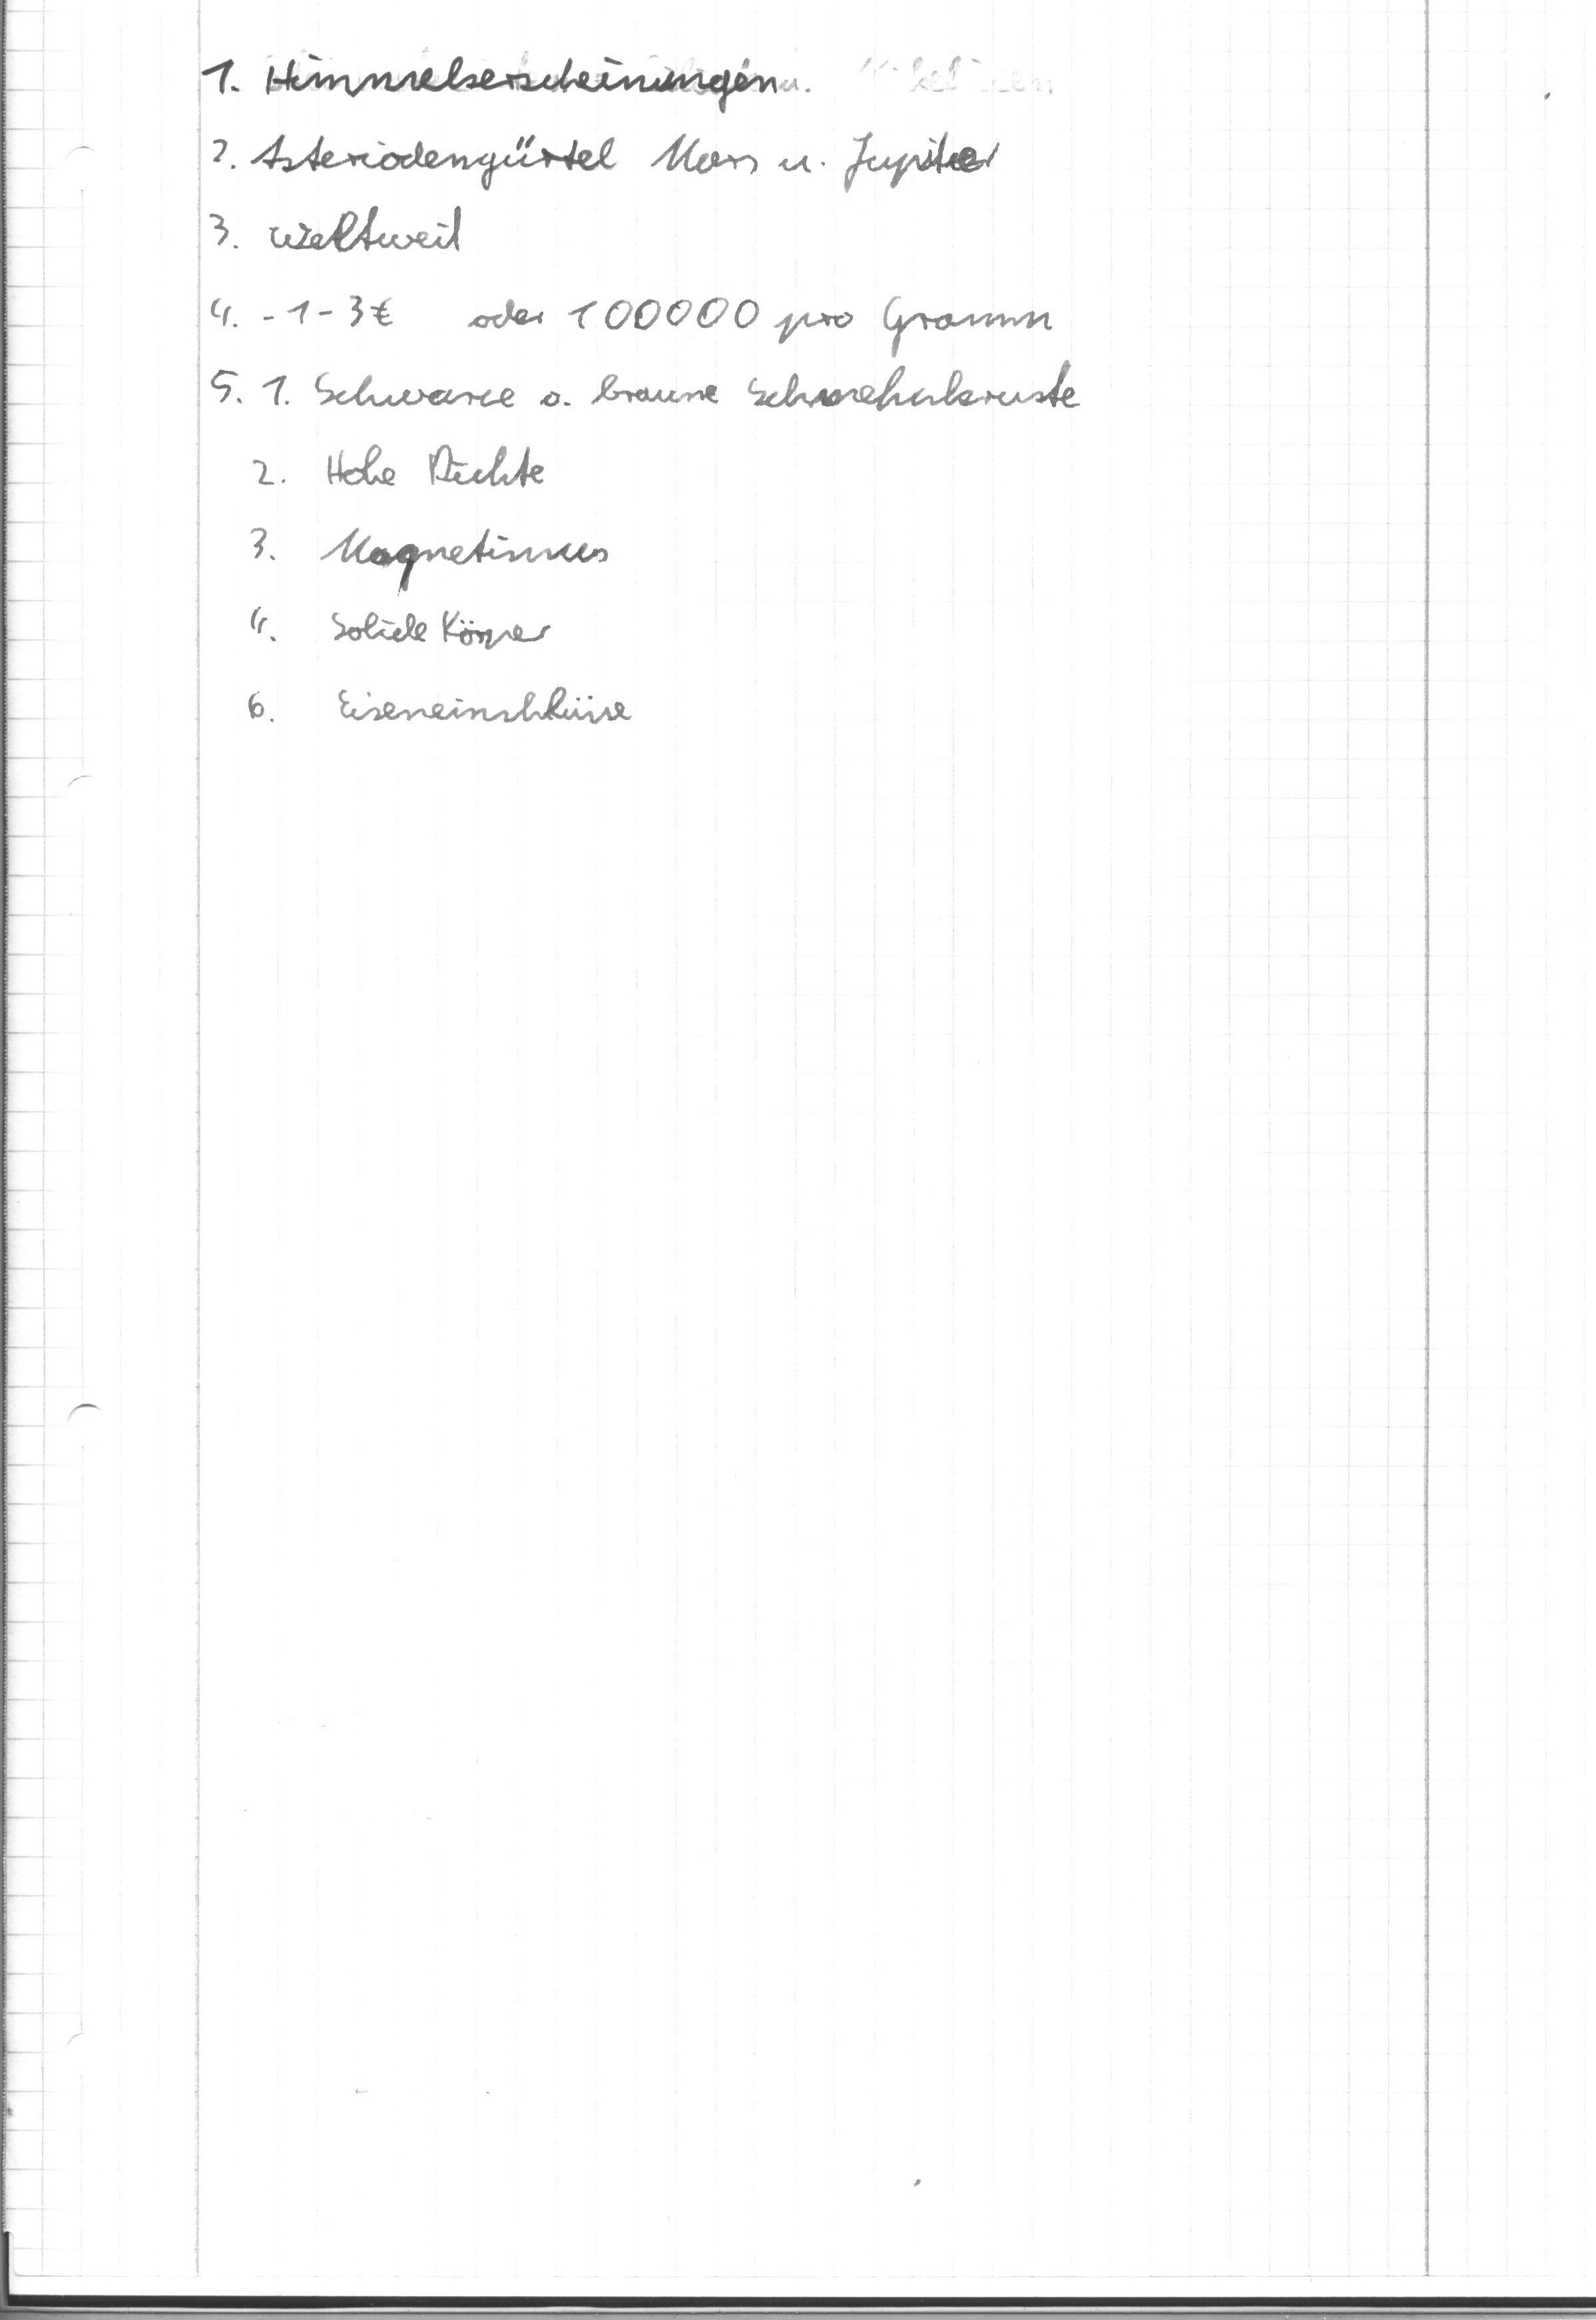word: (182, 37, 1032, 269), (188, 281, 1087, 427), (228, 428, 645, 745)
